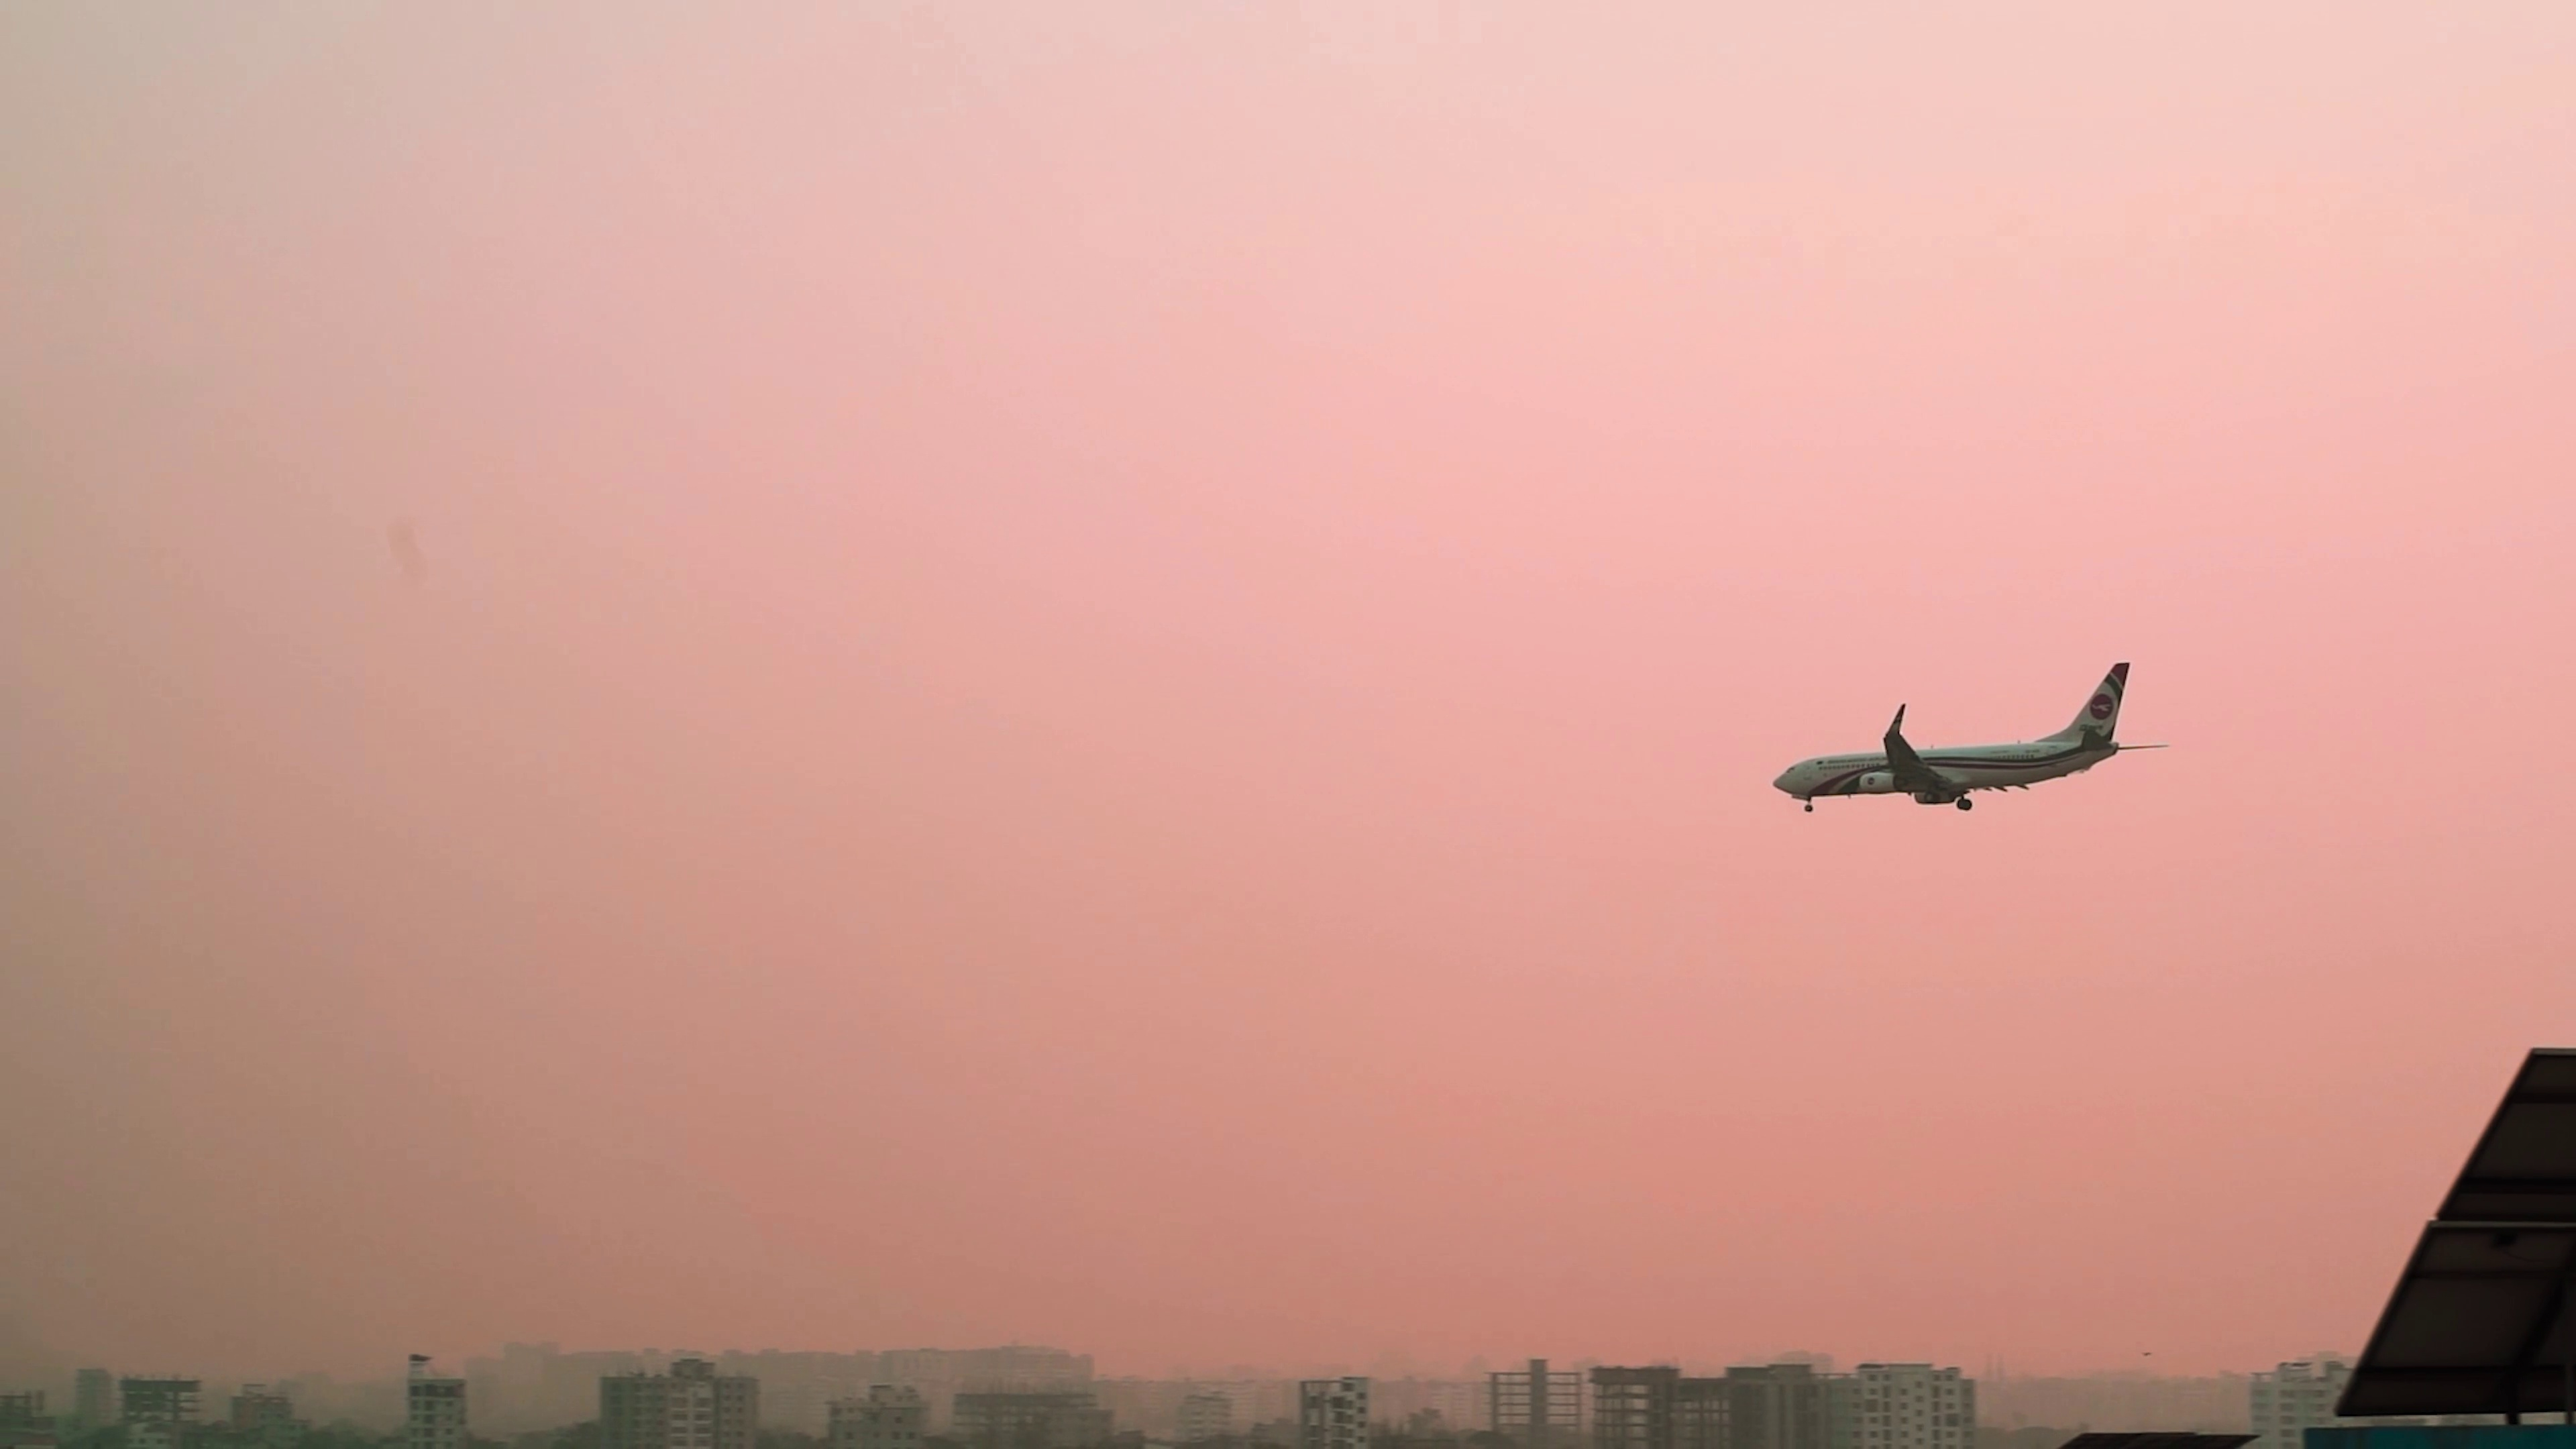plane: (1773, 662, 2167, 810)
